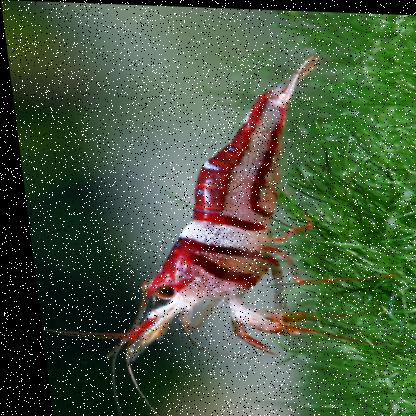shrimp: (68, 43, 349, 385)
